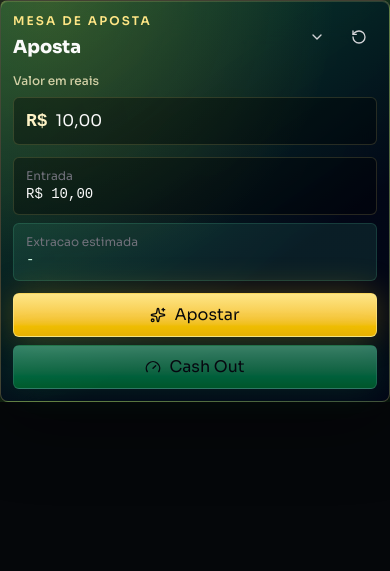
Test: game dashboard helpers › expands compact bet details from the mobile dock toggle
Click the button named "Configurar aposta" at (317, 37), box x1=299 y1=19 x2=335 y2=55
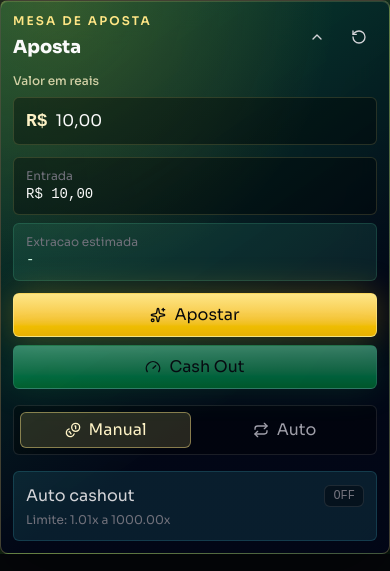
Result: the button named "Configurar aposta" is expanded at x1=299 y1=19 x2=335 y2=55
Result: the button "Manual" is shown at x1=20 y1=412 x2=191 y2=448
Result: the button "Auto" is shown at x1=199 y1=412 x2=370 y2=448
